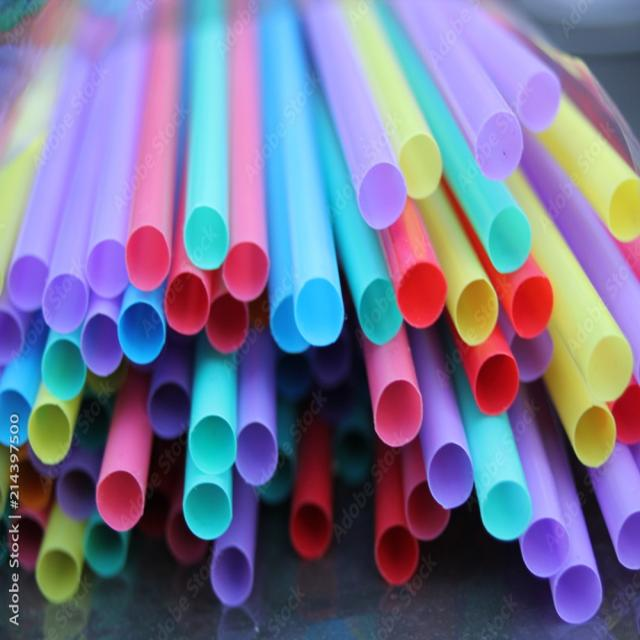plastic: (179, 3, 235, 300)
